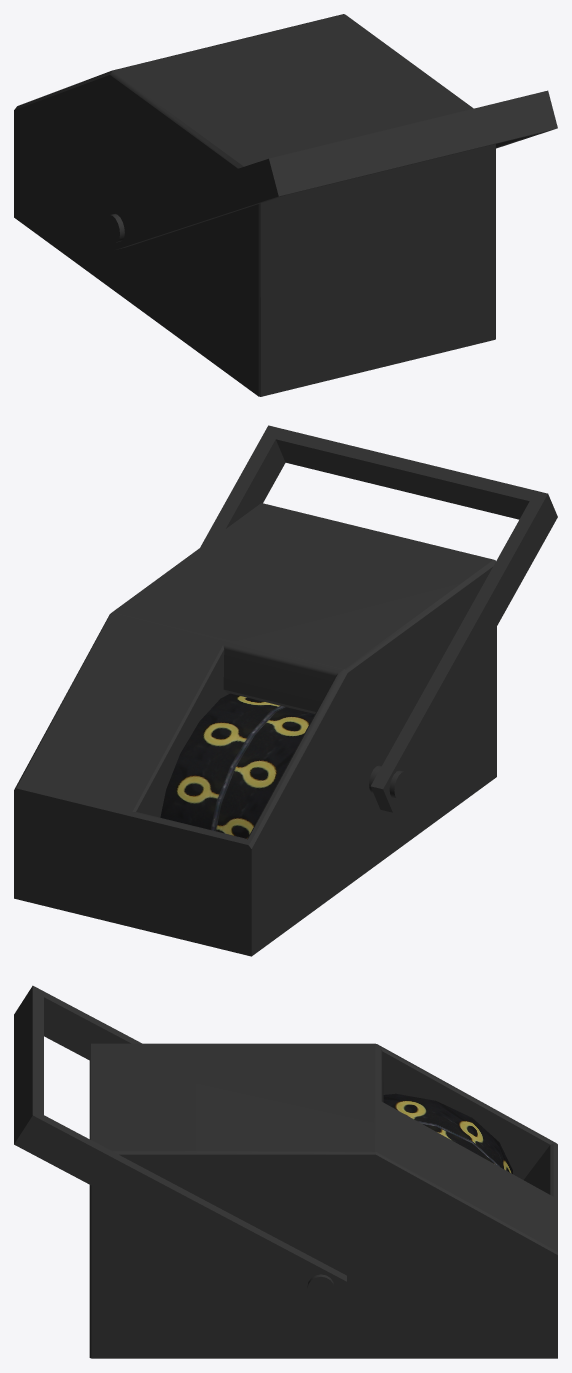
Rendered from Bubble_Machine.fbx.
3 renders of one model, top to bottom at view 1: azimuth 30°, elevation 25°; view 2: azimuth 150°, elevation 25°; view 3: azimuth 270°, elevation 25°, orthographic. The views are drawn at different scales.
Visible parts, largest first — view 1: Body, Handle; view 2: Body, Handle, Bubble_Mechanism; view 3: Body, Handle, Bubble_Mechanism, Handle_Joins.
Part boxes in pixels (<box>): Body: <box>14,14,495,396</box>; Handle: <box>104,90,557,250</box>; Body: <box>14,503,496,956</box>; Handle: <box>200,425,557,812</box>; Bubble_Mechanism: <box>160,693,314,838</box>; Body: <box>89,1043,557,1358</box>; Handle: <box>14,985,346,1310</box>; Bubble_Mechanism: <box>383,1093,512,1173</box>; Handle_Joins: <box>307,1274,334,1301</box>.
Bounding box in the file's own units: 0.246 × 0.2158 × 0.4204.
2 materials, 1 textured.
